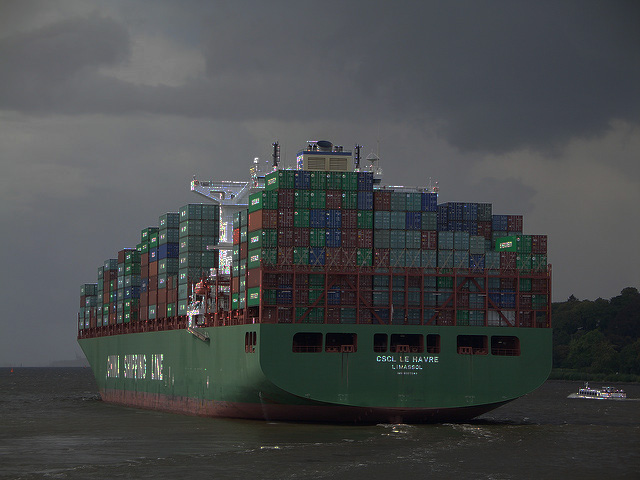boat: (573, 375, 630, 404)
container_ship: (77, 137, 552, 418)
